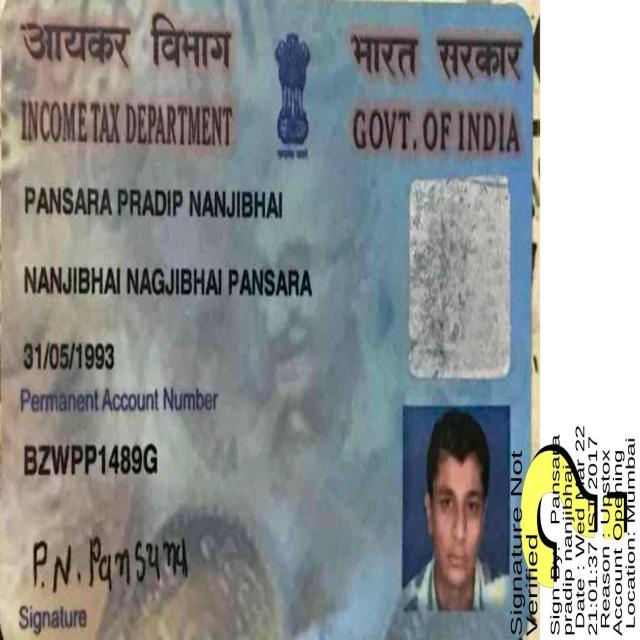pan_card: (3, 0, 526, 640)
